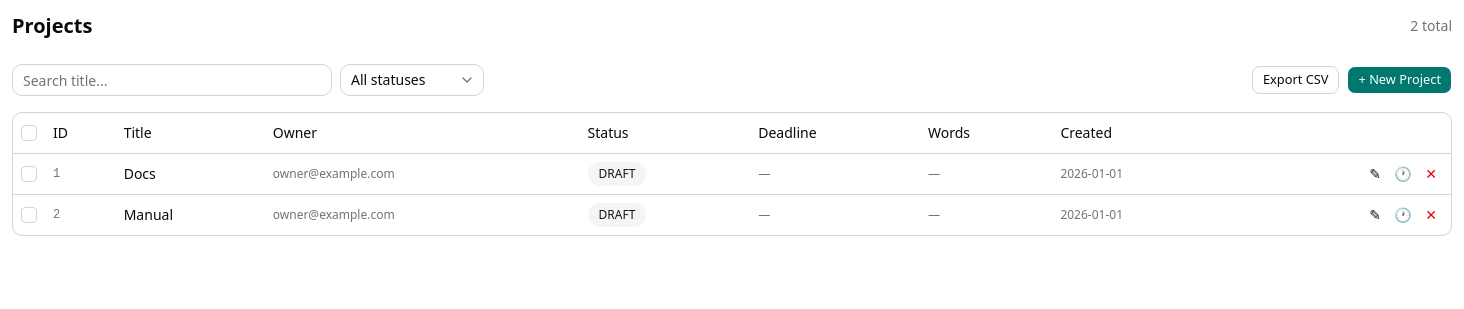
Test: AdminProjectsTable › selects and deselects all rows via the header checkbox, and toggles a single row off
Expected: the text "Docs" is shown, [116,153,265,194]
Expected: the text "Manual" is shown, [116,194,265,234]
Click the checkbox in the row of "Docs".
click(29, 174)  # box [21,166,37,182]
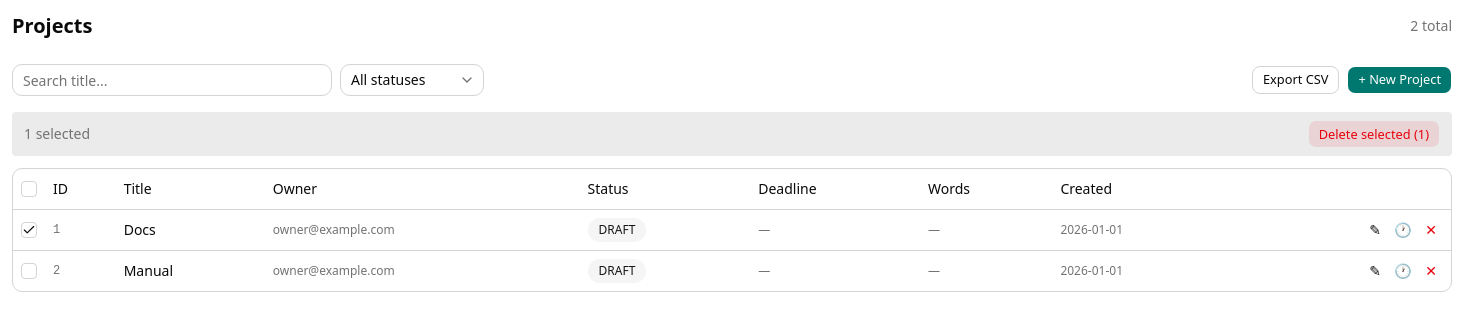
Click the checkbox in the row of "Docs".
click(29, 230)  # box [21,222,37,238]
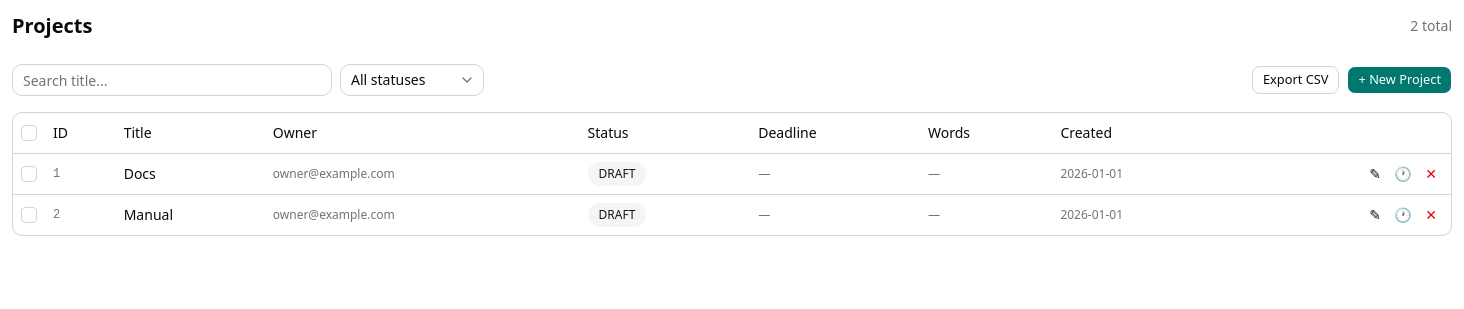
Result: the text "selected" is gone
Click the checkbox next to "ID".
click(29, 133)  # box [21,125,37,141]
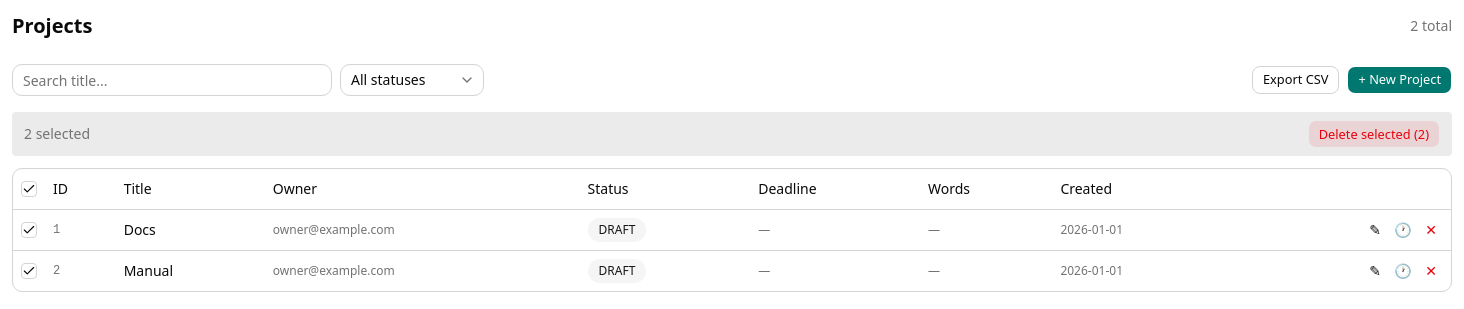
Result: the text "2 selected" is shown at [24,124,90,144]
Click the checkbox next to "ID".
click(29, 189)  # box [21,181,37,197]
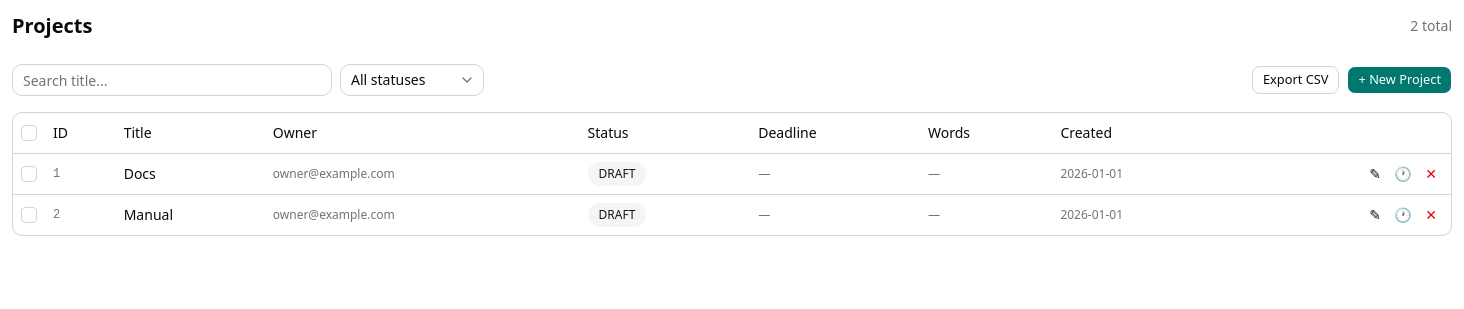
Result: the text "2 selected" is gone
